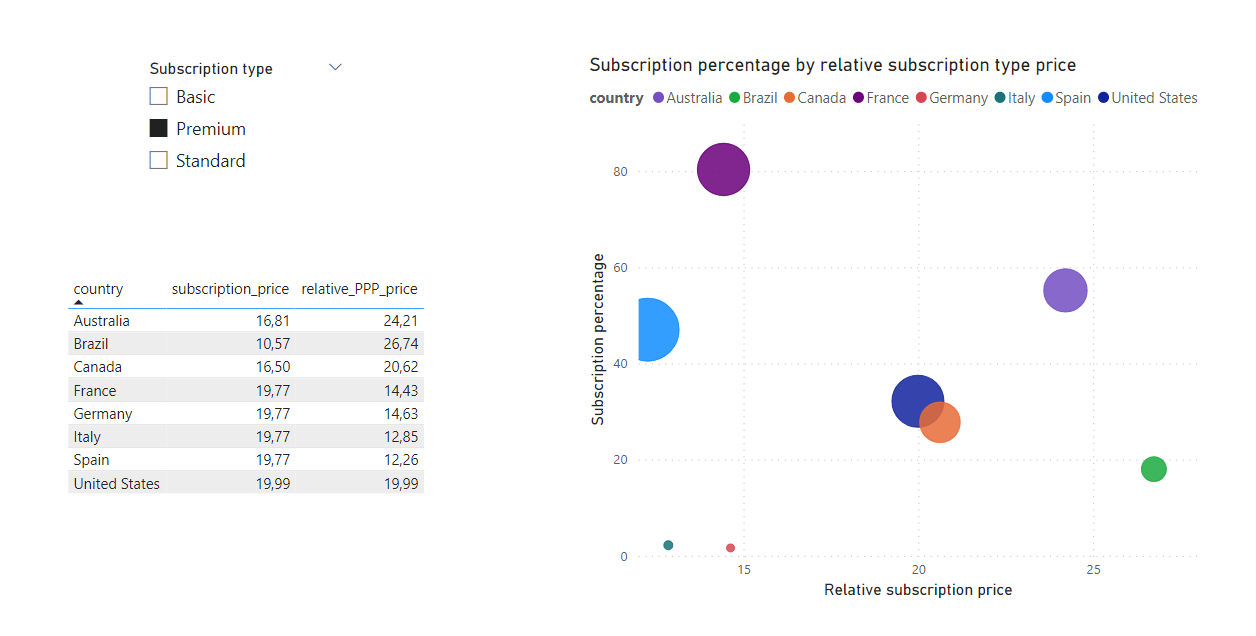

Layout of this report page (visuals, bound fields, positions):
{"tool":"powerbi","page":{"name":"Página 6","canvas":[1280,720],"ordinal":5},"visuals":[{"type":"scatterChart","title":"Subscription percentage by relative subscription type price","fields":{"X":["netflix_clean (2).relative_PPP_price"],"Series":["netflix_clean (2).country"],"Size":["CountNonNull(netflix_clean (2).user_id)"],"Y":["netflix_clean (2).Subscription Percentage"]},"box":[618.3,112.4,567.6,497.7],"z":0},{"type":"slicer","fields":{"Values":["netflix_clean (2).subscription_type"]},"box":[212.5,112.4,200.2,141.2],"z":1000},{"type":"tableEx","fields":{"Values":["netflix_clean (2).country","netflix_clean (2).subscription_price","netflix_clean (2).relative_PPP_price"]},"box":[145.3,308.5,366.1,264.6],"z":2000}]}

Visuals, with their boxes on the page's 1280x720 design canvas (x1, y1, x2, y2). These are canvas units, not pixel positions in the 1256x636 screenshot, which may show the page scaled, cropped or inside an application window:
"Subscription percentage by relative subscription type price" scatterChart: <box>618,112,1186,610</box>
slicer - netflix_clean (2).subscription_type: <box>212,112,413,254</box>
tableEx - netflix_clean (2).country x netflix_clean (2).subscription_price: <box>145,308,511,573</box>
